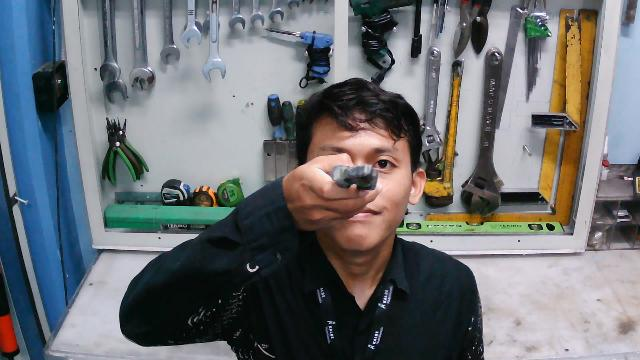tang_kombinasi: (325, 156, 380, 197)
